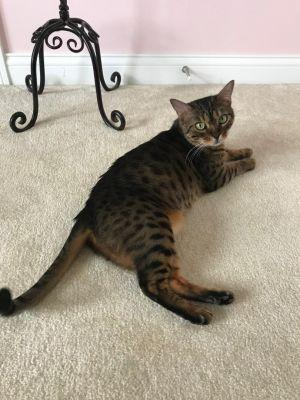bengal: (160, 73, 245, 155)
